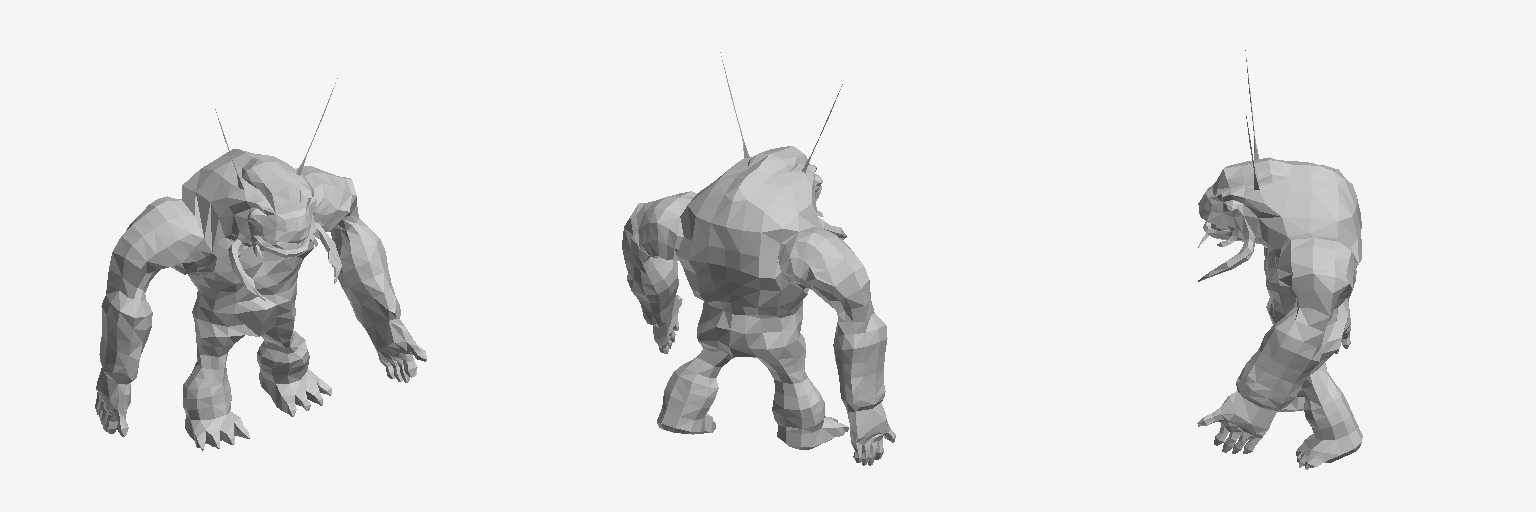
The model's file is Correr2.obj.
3 renders of one model, left to right at view 1: azimuth 30°, elevation 25°; view 2: azimuth 150°, elevation 25°; view 3: azimuth 270°, elevation 25°, orthographic.
Parts seen in each view (by area): view 1: Umber_Hulk_1:Umber_Hulk_1; view 2: Umber_Hulk_1:Umber_Hulk_1; view 3: Umber_Hulk_1:Umber_Hulk_1.
Part boxes in pixels (x1,y1,x2,y2): Umber_Hulk_1:Umber_Hulk_1: (95,78,426,450); Umber_Hulk_1:Umber_Hulk_1: (622,52,895,465); Umber_Hulk_1:Umber_Hulk_1: (1197,50,1362,469).
Size of the model in its own units: 97.09 by 125 by 52.58.